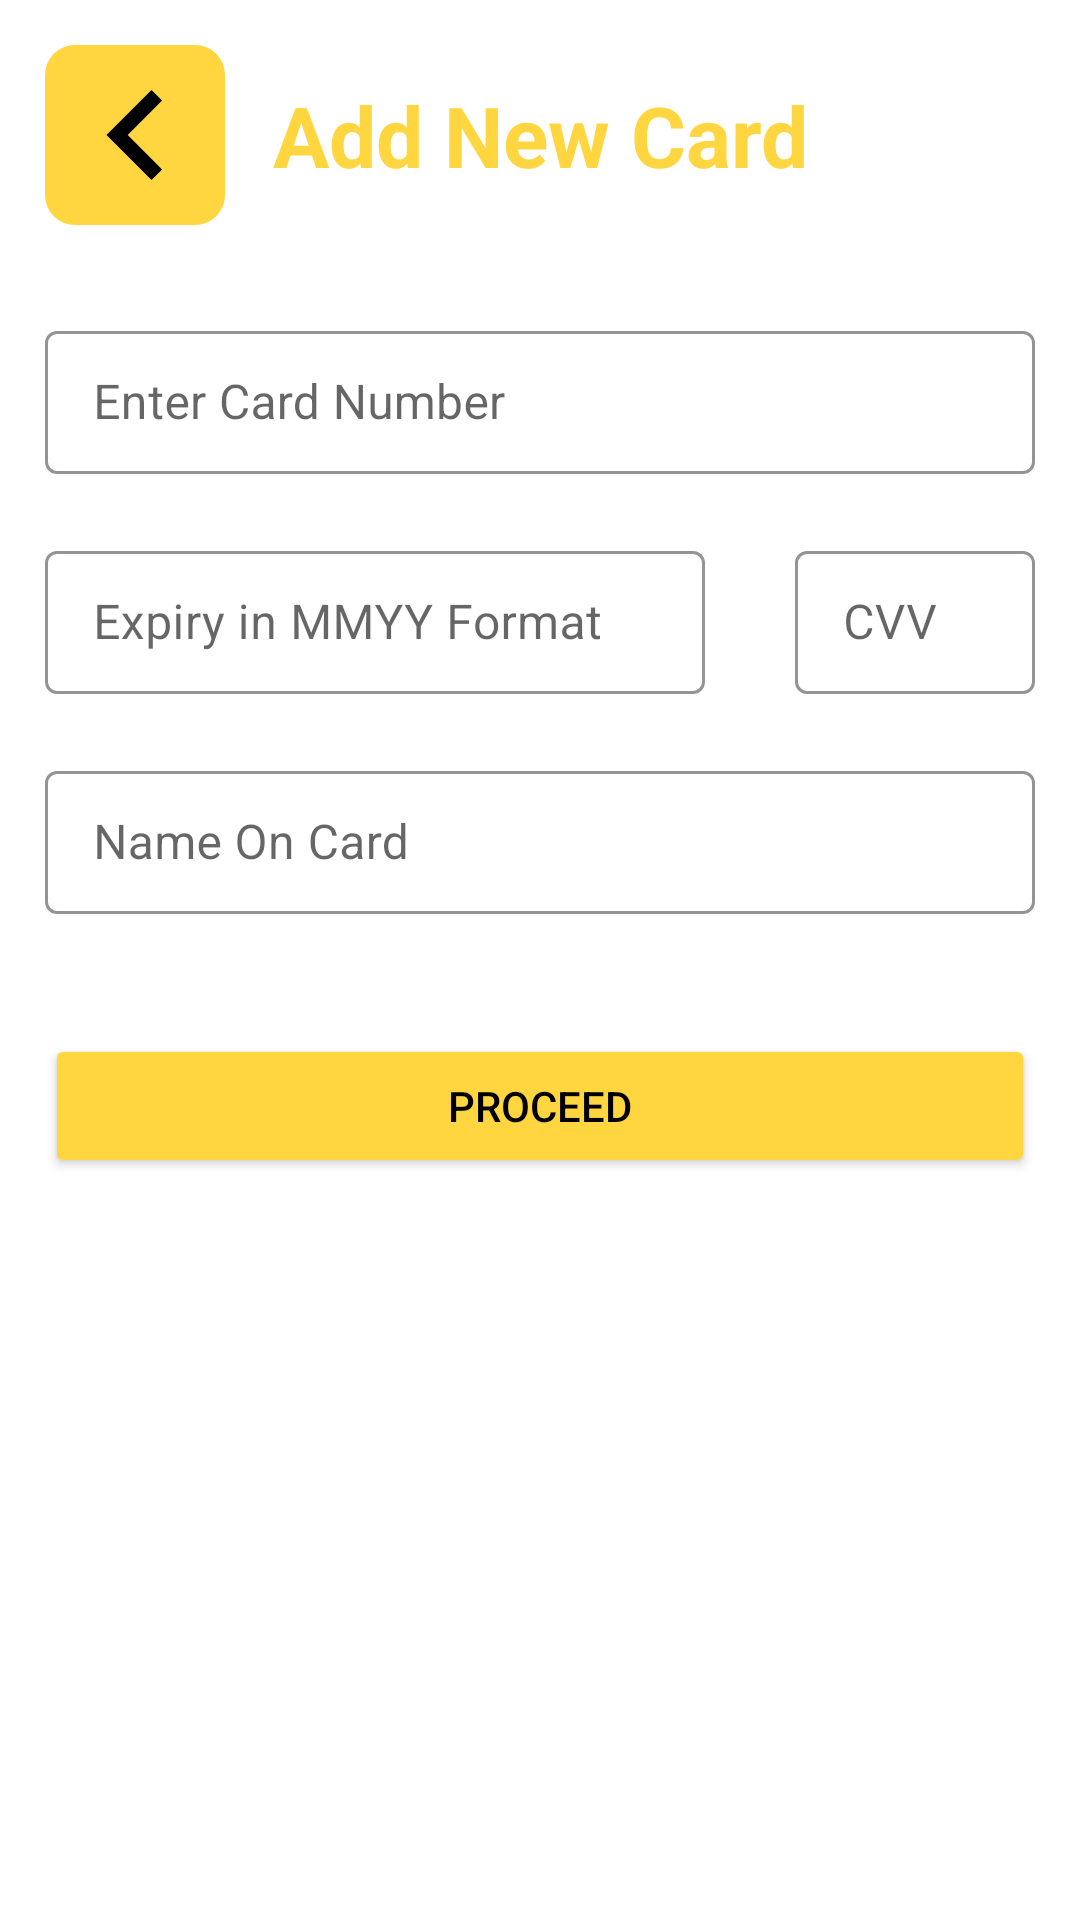

Named icons in this screenshot (1080px×1920px) and their bounding boxes, (x1, y1, x2, y2):
back: (45, 45, 225, 225)
